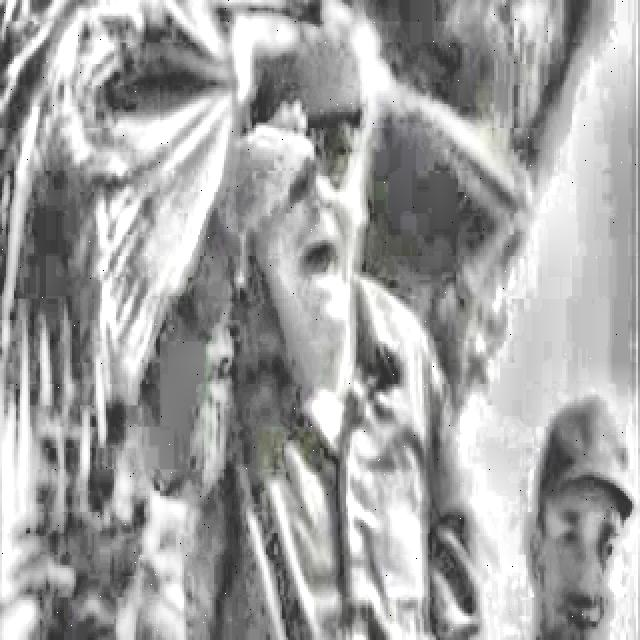T: (159, 21, 483, 636)
